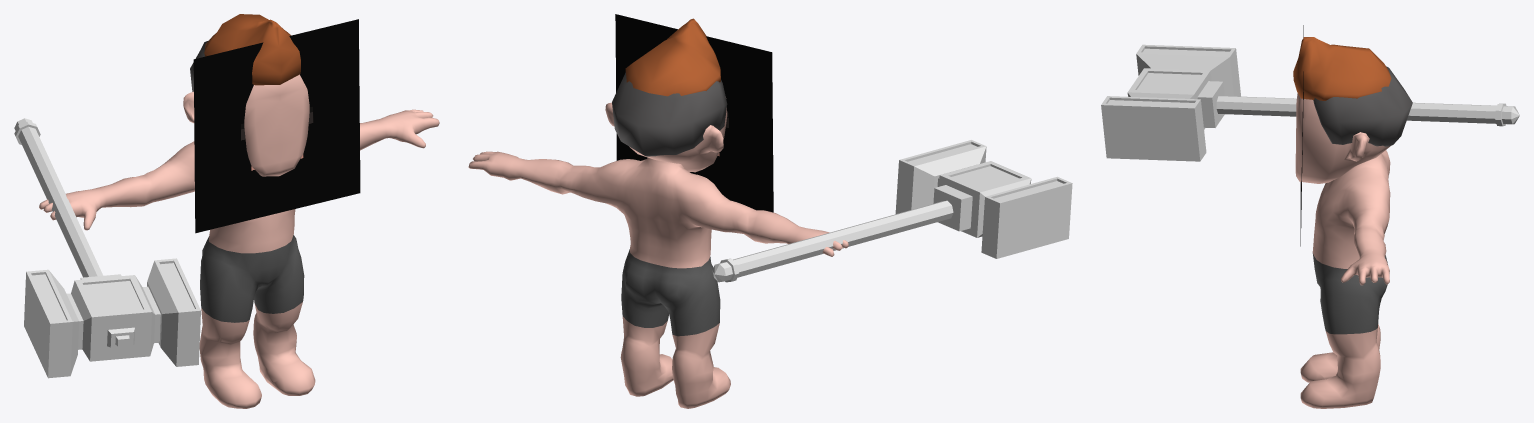
File: Dolshoi_021.fbx
3 views of the same model, side by side, from view 1: azimuth 30°, elevation 25°; view 2: azimuth 150°, elevation 25°; view 3: azimuth 270°, elevation 25° (orthographic). The views are drawn at different scales.
Parts seen in each view (by area): view 1: Dolshoi_Body, Dolshoi_Face, Test_Hammer, Dolshoi_Head; view 2: Dolshoi_Body, Test_Hammer, Dolshoi_Face, Dolshoi_Head, Dolshoi_Head.001; view 3: Dolshoi_Body, Test_Hammer, Dolshoi_Head, Dolshoi_Head.001.
Part boxes in pixels (x1=…): Dolshoi_Body: x1=39, y1=109, x2=439, y2=408; Dolshoi_Face: x1=193, y1=19, x2=360, y2=233; Test_Hammer: x1=14, y1=118, x2=200, y2=378; Dolshoi_Head: x1=183, y1=14, x2=309, y2=176; Dolshoi_Body: x1=468, y1=151, x2=848, y2=408; Test_Hammer: x1=712, y1=140, x2=1072, y2=282; Dolshoi_Face: x1=615, y1=14, x2=773, y2=212; Dolshoi_Head: x1=605, y1=18, x2=727, y2=172; Dolshoi_Head.001: x1=612, y1=72, x2=727, y2=156; Dolshoi_Body: x1=1300, y1=150, x2=1390, y2=408; Test_Hammer: x1=1101, y1=44, x2=1519, y2=161; Dolshoi_Head: x1=1293, y1=37, x2=1391, y2=183; Dolshoi_Head.001: x1=1313, y1=66, x2=1412, y2=146.
Bounding box in the file's own units: 3.07 × 2.18 × 2.35.
